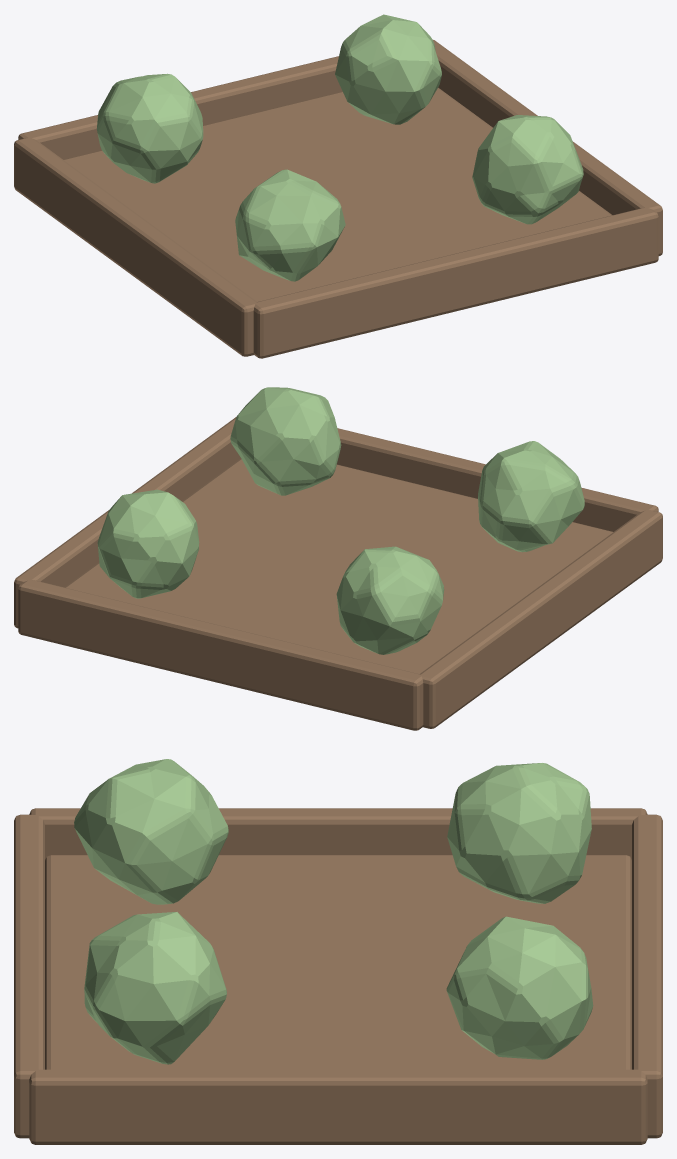
The model's file is veg_patch.glb.
3 renders of one model, top to bottom at view 1: azimuth 30°, elevation 25°; view 2: azimuth 150°, elevation 25°; view 3: azimuth 270°, elevation 25°, orthographic. The views are drawn at different scales.
Parts seen in each view (by area): view 1: VegPatch; view 2: VegPatch; view 3: VegPatch.
Boxes of the visible parts, x1,y1,x2,y2 form: VegPatch: (14, 14, 662, 358); VegPatch: (14, 387, 662, 730); VegPatch: (14, 759, 662, 1144).
Size of the model in its own units: 1.05 by 0.3007 by 1.05.
